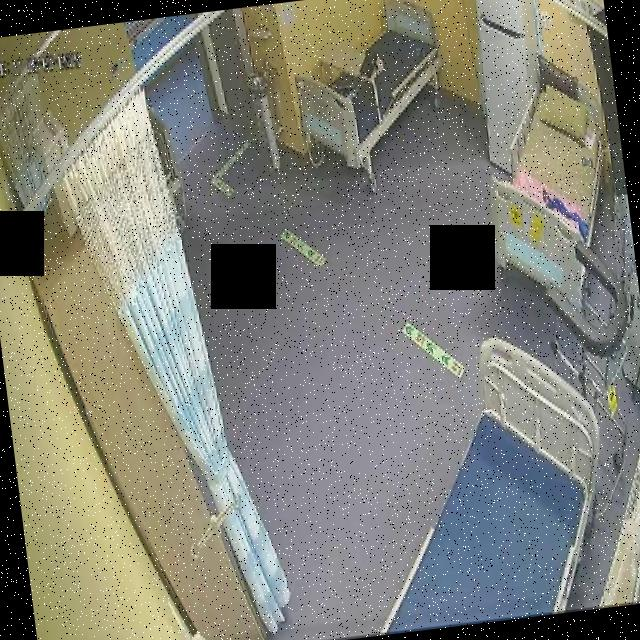bed: (350, 322, 623, 634), (472, 65, 624, 304), (285, 0, 450, 172)
